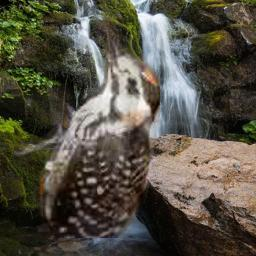Woodpecker: (14, 17, 160, 238)
